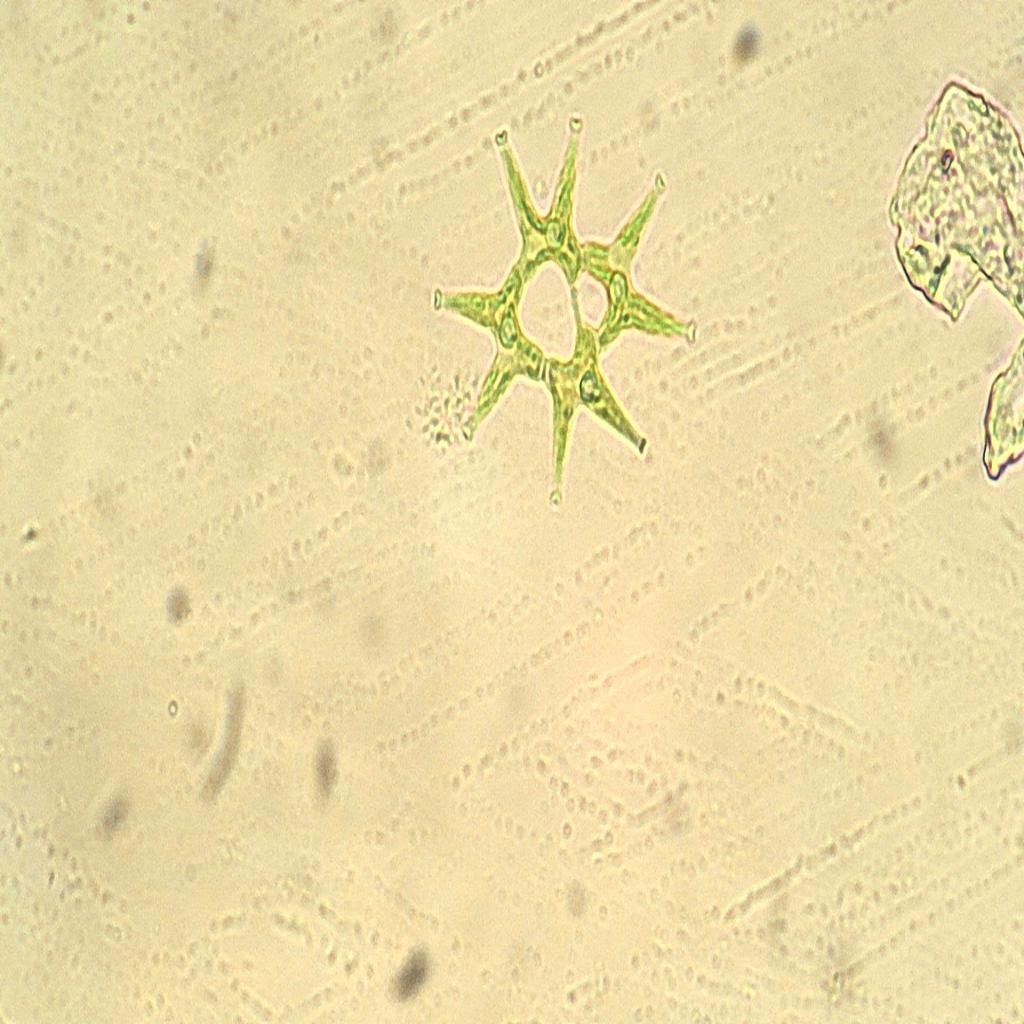Pediastrum_75FO: (416, 105, 724, 516)
